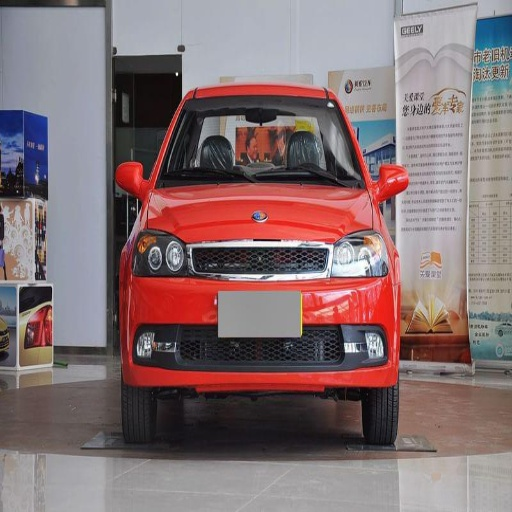front_bumper: (128, 242, 394, 392)
front_right_light: (132, 233, 186, 274)
hood: (148, 184, 374, 245)
